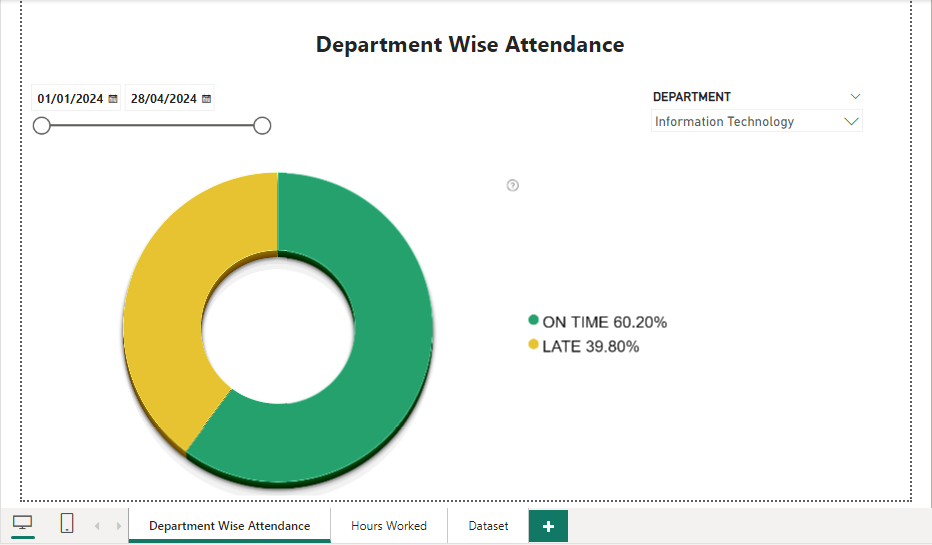

What the dashboard file says about the page in this screenshot:
{"tool":"powerbi","page":{"name":"Department Wise Attendance","canvas":[1280,720],"ordinal":0},"visuals":[{"type":"ZoomChartsPieChartPaidE77E4ED357DC402ABA005987437CF500","title":"Attendance","fields":{"Category":["FCT_ATTENDANCE.ATTENDANCE"],"Values":["CountNonNull(FCT_ATTENDANCE.ATTENDANCE)"]},"box":[9.8,243.9,1037.7,476.3],"z":0},{"type":"slicer","fields":{"Values":["FCT_ATTENDANCE.DEPARTMENT"]},"box":[895.7,123.8,325.4,97.9],"z":1000},{"type":"textbox","box":[9.9,34.6,1270.1,53.3],"z":2000},{"type":"slicer","fields":{"Values":["FCT_ATTENDANCE.DATE"]},"box":[0,110.9,367.2,110.9],"z":3000}]}

Visuals, with their boxes on the page's 1280x720 design canvas (x1, y1, x2, y2). These are canvas units, not pixel positions in the 932x545 screenshot, which may show the page scaled, cropped or inside an application window:
"Attendance" ZoomChartsPieChartPaidE77E4ED357DC402ABA005987437CF500: (10, 244, 1048, 720)
slicer - FCT_ATTENDANCE.DEPARTMENT: (896, 124, 1221, 222)
textbox: (10, 35, 1280, 88)
slicer - FCT_ATTENDANCE.DATE: (0, 111, 367, 222)
